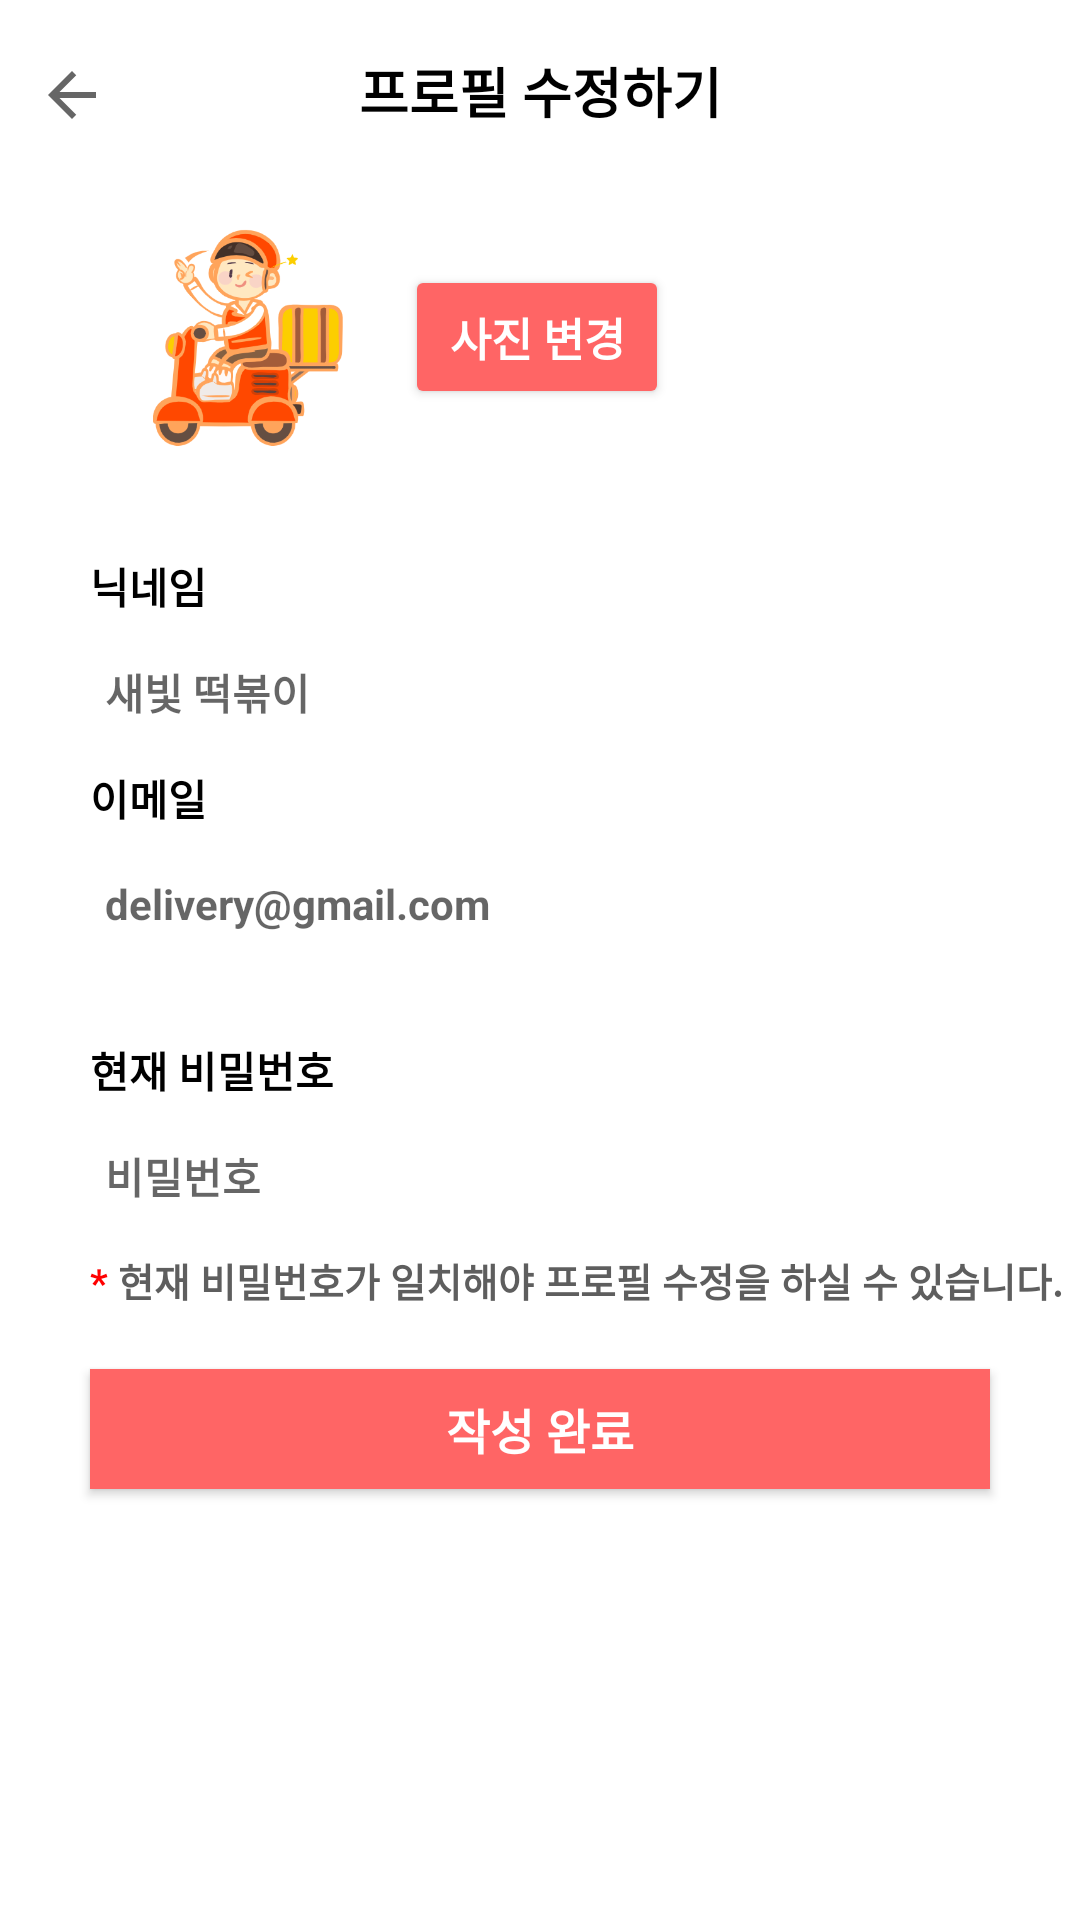

Icons on this 1080x1920 Android screen, each with the point to tap as [x,y]:
arrow back: [72,95]
